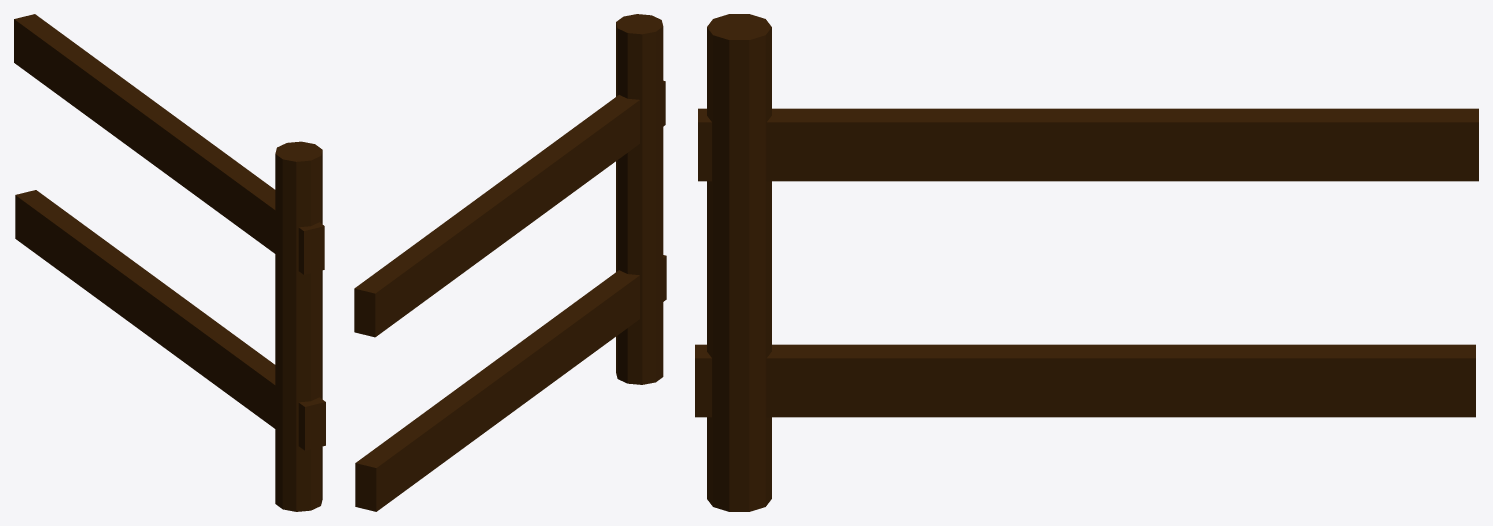
File: Fence_Single_Post_v003(UV_Unwrapped).fbx
3 views of the same model, side by side, from view 1: azimuth 30°, elevation 25°; view 2: azimuth 150°, elevation 25°; view 3: azimuth 270°, elevation 25° (orthographic). The views are drawn at different scales.
Visible parts, largest first — view 1: Fence; view 2: Fence; view 3: Fence.
Boxes of the visible parts, x1=… form: Fence: x1=14, y1=14, x2=325, y2=511; Fence: x1=354, y1=14, x2=666, y2=511; Fence: x1=695, y1=14, x2=1478, y2=511.
Bounding box in the file's own units: 47.55 × 400 × 602.
